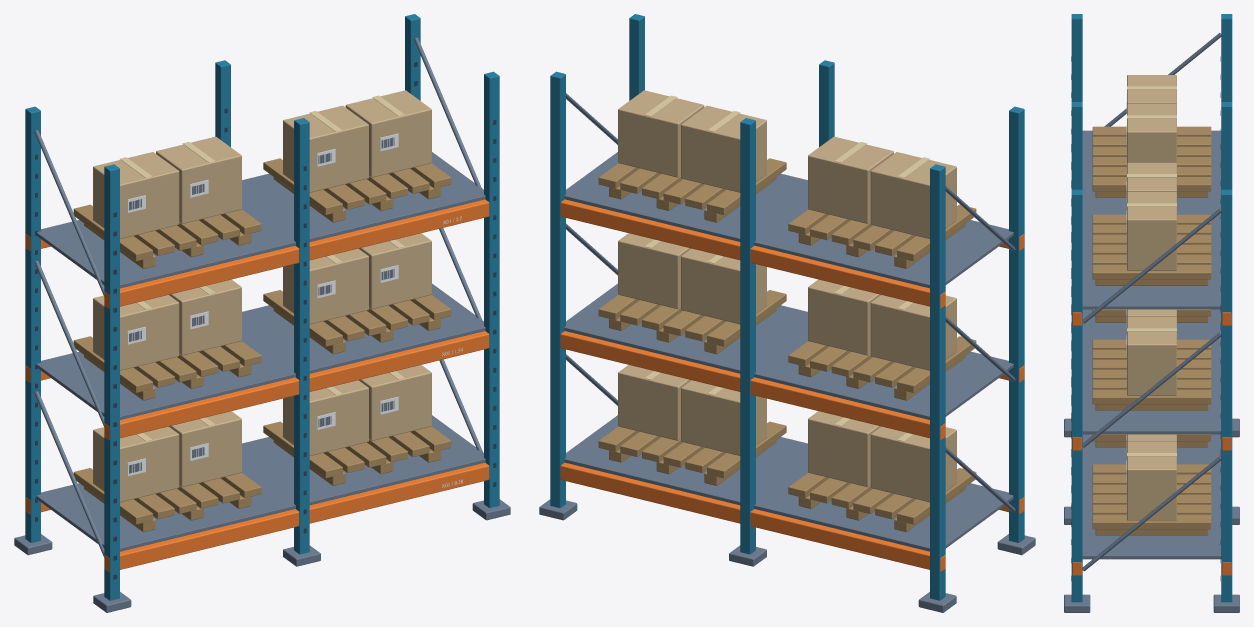
Rendered from warehouse.glb.
3 views of the same model, side by side, from view 1: azimuth 30°, elevation 25°; view 2: azimuth 150°, elevation 25°; view 3: azimuth 270°, elevation 25° (orthographic). The views are drawn at different scales.
Visible parts, largest first — view 1: Deck sheet.001, Deck sheet.002, Deck sheet, Rack load beam, Rack load beam.002, Rack load beam.004, Rack channel.004, Rack channel.002, Rack channel, Rack channel.001, Shipping carton.010, Shipping carton.012 (+28 smaller); view 2: Deck sheet.001, Deck sheet, Deck sheet.002, Rack load beam.001, Rack load beam.003, Rack load beam.005, Rack channel.001, Rack channel.005, Rack channel.003, Rack channel, Shipping carton.012, Shipping carton.010 (+24 smaller); view 3: Deck sheet.002, Deck sheet, Deck sheet.001, Pallet deck slat.002, Pallet deck slat.006, Pallet deck slat.004, Rack channel.004, Rack channel.005, Pallet deck slat.005, Shipping carton.009, Shipping carton.013, Shipping carton.005 (+23 smaller).
Boxes of the visible parts, bbox=[...] form: Deck sheet.001: bbox=[36, 283, 485, 419]; Deck sheet.002: bbox=[36, 152, 485, 288]; Deck sheet: bbox=[36, 415, 485, 551]; Rack load beam: bbox=[104, 462, 489, 571]; Rack load beam.002: bbox=[104, 331, 489, 440]; Rack load beam.004: bbox=[104, 199, 489, 308]; Rack channel.004: bbox=[484, 71, 499, 507]; Rack channel.002: bbox=[294, 118, 309, 554]; Rack channel: bbox=[104, 164, 119, 600]; Rack channel.001: bbox=[25, 106, 40, 542]; Shipping carton.010: bbox=[93, 152, 179, 238]; Shipping carton.012: bbox=[283, 105, 368, 192]; Deck sheet.001: bbox=[564, 283, 1013, 419]; Deck sheet: bbox=[564, 415, 1013, 551]; Deck sheet.002: bbox=[564, 152, 1013, 288]; Rack load beam.001: bbox=[560, 462, 945, 571]; Rack load beam.003: bbox=[560, 331, 945, 440]; Rack load beam.005: bbox=[560, 199, 945, 308]; Rack channel.001: bbox=[930, 164, 945, 600]; Rack channel.005: bbox=[550, 71, 565, 507]; Rack channel.003: bbox=[740, 118, 755, 554]; Rack channel: bbox=[1009, 106, 1024, 542]; Shipping carton.012: bbox=[681, 105, 766, 192]; Shipping carton.010: bbox=[870, 152, 956, 238]; Deck sheet.002: bbox=[1082, 130, 1221, 309]; Deck sheet: bbox=[1082, 434, 1221, 559]; Deck sheet.001: bbox=[1082, 309, 1221, 434]; Pallet deck slat.002: bbox=[1092, 464, 1211, 529]; Pallet deck slat.006: bbox=[1092, 214, 1211, 279]; Pallet deck slat.004: bbox=[1092, 339, 1211, 404]; Rack channel.004: bbox=[1071, 189, 1082, 602]; Rack channel.005: bbox=[1221, 189, 1232, 602]; Pallet deck slat.005: bbox=[1092, 126, 1211, 191]; Shipping carton.009: bbox=[1127, 316, 1176, 395]; Shipping carton.013: bbox=[1127, 192, 1176, 270]; Shipping carton.005: bbox=[1127, 441, 1176, 520].
Size of the model in its own units: 3.73 by 3.86 by 1.48.
